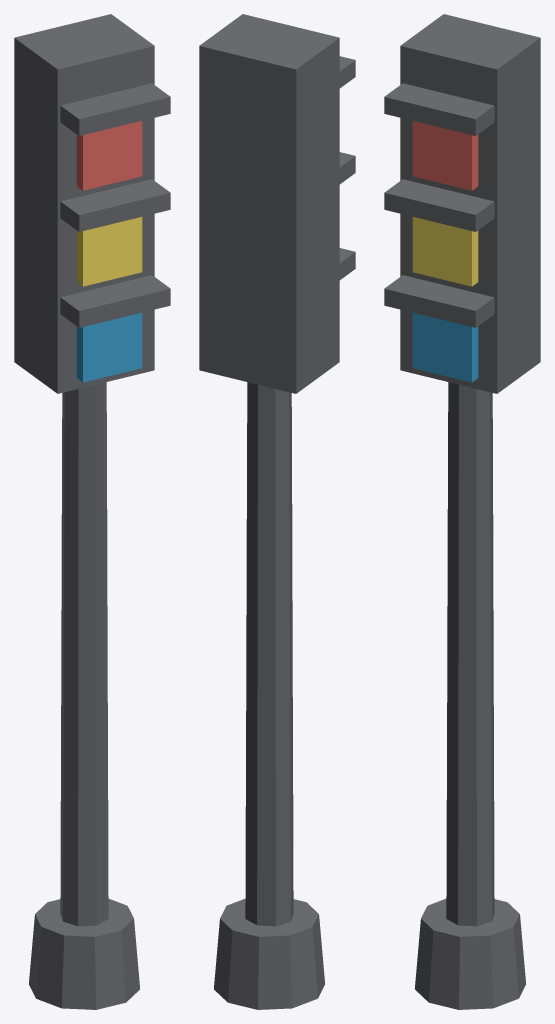
File: packed.glb
The picture shows the model from 3 angles, left to right: view 1: azimuth 30°, elevation 25°; view 2: azimuth 150°, elevation 25°; view 3: azimuth 330°, elevation 25°; orthographic projection.
Visible parts, largest first — view 1: traffic-light-charcoal, traffic-light-azure, traffic-light-crimson, traffic-light-canary; view 2: traffic-light-charcoal; view 3: traffic-light-charcoal, traffic-light-azure, traffic-light-crimson, traffic-light-canary.
Part boxes in pixels (<box>): traffic-light-charcoal: <box>14,14,170,1009</box>; traffic-light-azure: <box>76,312,142,382</box>; traffic-light-crimson: <box>76,121,142,190</box>; traffic-light-canary: <box>76,217,142,286</box>; traffic-light-charcoal: <box>199,14,355,1009</box>; traffic-light-charcoal: <box>384,14,540,1009</box>; traffic-light-azure: <box>412,312,478,382</box>; traffic-light-crimson: <box>412,121,478,190</box>; traffic-light-canary: <box>412,217,478,286</box>.
Bounding box in the file's own units: 0.3599 × 3.35 × 0.431.
